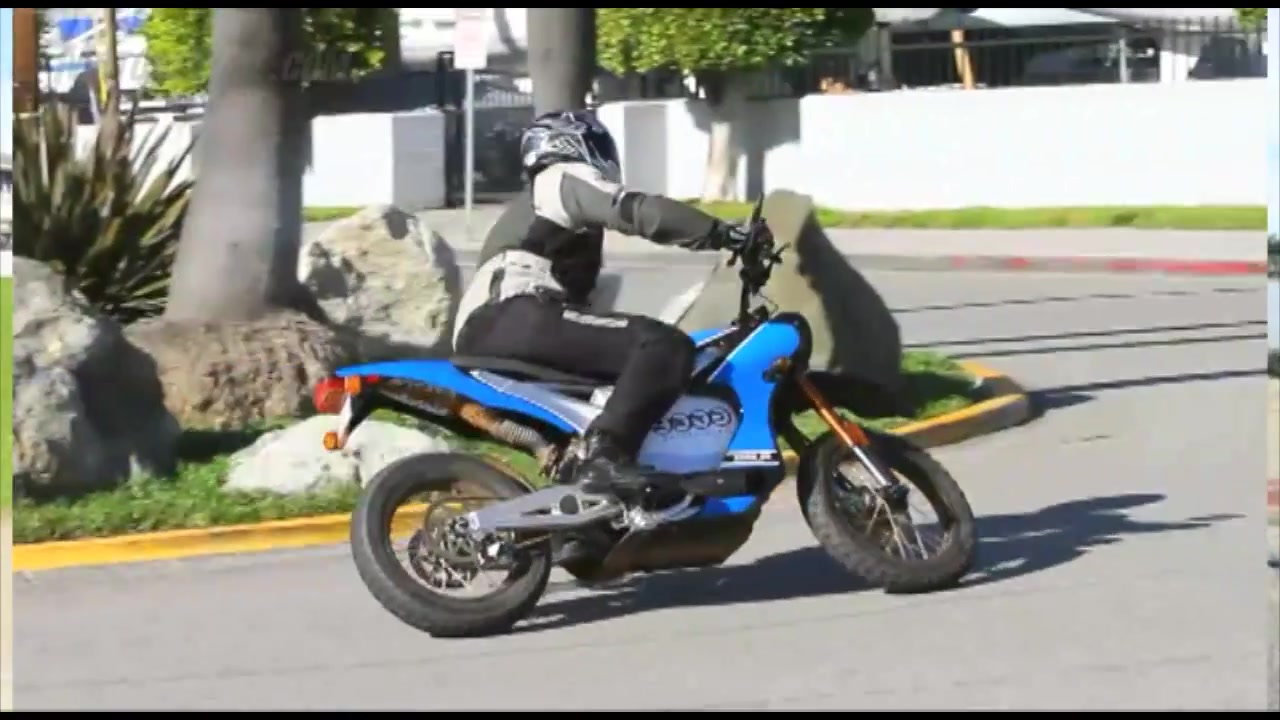motorbike: (324, 196, 983, 641)
